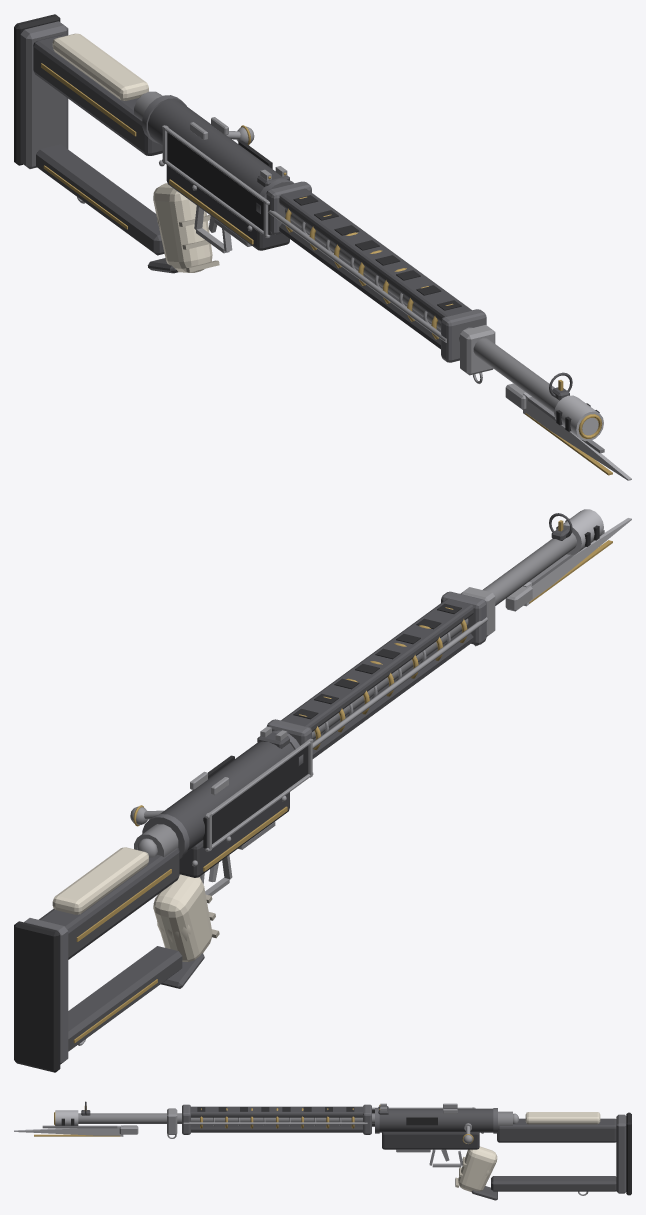
Rendered from lancer.glb.
The picture shows the model from 3 angles, top to bottom: view 1: azimuth 30°, elevation 25°; view 2: azimuth 150°, elevation 25°; view 3: azimuth 270°, elevation 25°; orthographic projection. The views are drawn at different scales.
Parts seen in each view (by area): view 1: black.001, black*1.004, black.007, black.006, black, bone, steel*0.001, bone.005, black*0.001, black*0.010, black*0.75, black*0.015 (+6 smaller); view 2: black*0.015, black.001, black.006, black.007, black, bone, steel*0.001, black*0.001, bone.005, black*0.010, black*0.75, black*1.004 (+5 smaller); view 3: black, black.006, black.007, steel*0.001, black.001, black*0.75, black*0.010, bone, bone.005, black*1.004, edge.001, steel.026 (+11 smaller).
Part boxes in pixels (left/top/right/bottom): black.001: left=279, top=188, right=471, bottom=321; black*1.004: left=20, top=21, right=68, bottom=168; black.007: left=36, top=144, right=164, bottom=255; black.006: left=33, top=34, right=162, bottom=155; black: left=148, top=100, right=275, bottom=193; bone: left=153, top=183, right=212, bottom=272; steel*0.001: left=285, top=208, right=559, bottom=412; bone.005: left=52, top=33, right=148, bottom=100; black*0.001: left=167, top=132, right=271, bottom=235; black*0.010: left=279, top=221, right=440, bottom=349; black*0.75: left=166, top=165, right=289, bottom=250; black*0.015: left=14, top=14, right=60, bottom=165; black*0.015: left=14, top=921, right=60, bottom=1072; black.001: left=281, top=599, right=473, bottom=731; black.006: left=39, top=848, right=179, bottom=959; black.007: left=68, top=946, right=182, bottom=1051; black: left=160, top=741, right=294, bottom=851; bone: left=153, top=874, right=212, bottom=961; steel*0.001: left=312, top=533, right=576, bottom=739; black*0.001: left=203, top=746, right=308, bottom=848; bone.005: left=52, top=847, right=148, bottom=914; black*0.010: left=312, top=631, right=473, bottom=758; black*0.75: left=179, top=792, right=289, bottom=877; black*1.004: left=24, top=918, right=68, bottom=1064; black: left=379, top=1108, right=493, bottom=1132; black.006: left=497, top=1118, right=616, bottom=1142; black.007: left=491, top=1176, right=616, bottom=1191; steel*0.001: left=78, top=1113, right=374, bottom=1123; black.001: left=190, top=1106, right=363, bottom=1117; black*0.75: left=382, top=1132, right=479, bottom=1149; black*0.010: left=191, top=1124, right=362, bottom=1132; bone: left=458, top=1146, right=497, bottom=1191; bone.005: left=525, top=1112, right=600, bottom=1124; black*1.004: left=616, top=1114, right=626, bottom=1193; edge.001: left=14, top=1125, right=123, bottom=1136; steel.026: left=183, top=1122, right=367, bottom=1124.
Size of the model in its own units: 0.0878 by 0.182 by 1.08.
